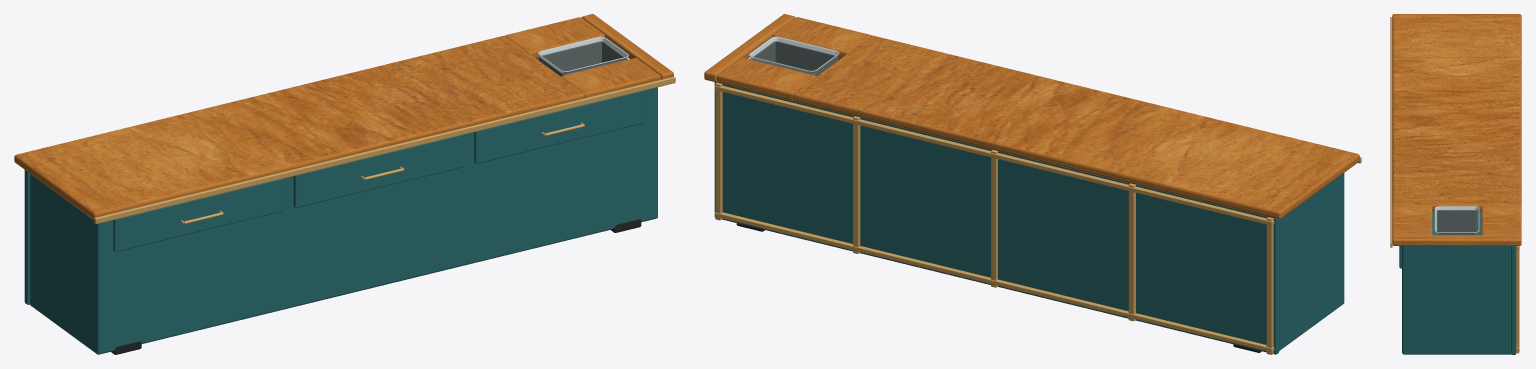
Rendered from Counter.fbx.
3 views of the same model, side by side, from view 1: azimuth 30°, elevation 25°; view 2: azimuth 150°, elevation 25°; view 3: azimuth 270°, elevation 25° (orthographic). The views are drawn at different scales.
Visible parts, largest first — view 1: Counter_Body; view 2: Counter_Body; view 3: Counter_Body.
Part boxes in pixels (<box>): Counter_Body: <box>14,14,675,354</box>; Counter_Body: <box>704,14,1361,354</box>; Counter_Body: <box>1390,14,1521,354</box>.
Bounding box in the file's own units: 3.6 × 0.913 × 0.8835.
